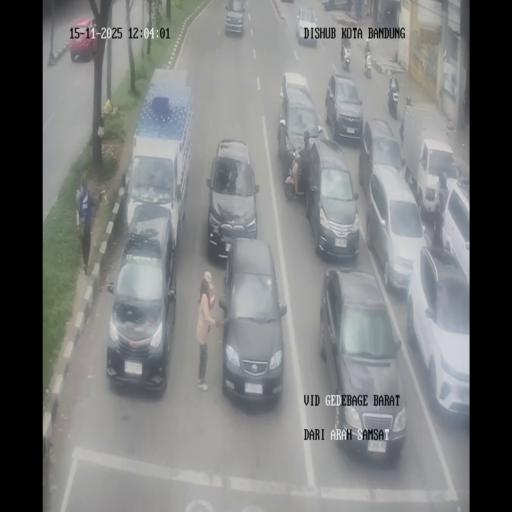car: (320, 267, 404, 460), (105, 204, 178, 392), (218, 238, 286, 408), (406, 243, 469, 425), (366, 166, 424, 294), (206, 138, 260, 263), (307, 137, 360, 261), (278, 72, 324, 185), (325, 72, 363, 144), (69, 16, 99, 61), (295, 6, 318, 46), (224, 0, 248, 36)
truck: (388, 87, 399, 118), (363, 50, 372, 78), (399, 107, 404, 143), (343, 46, 350, 71), (361, 0, 370, 18), (378, 9, 387, 24)
